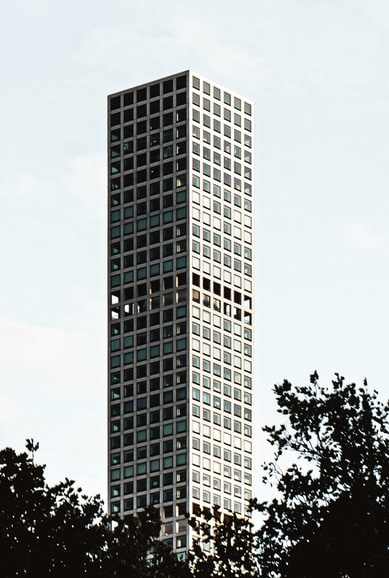Sky Building: (104, 75, 263, 534)
